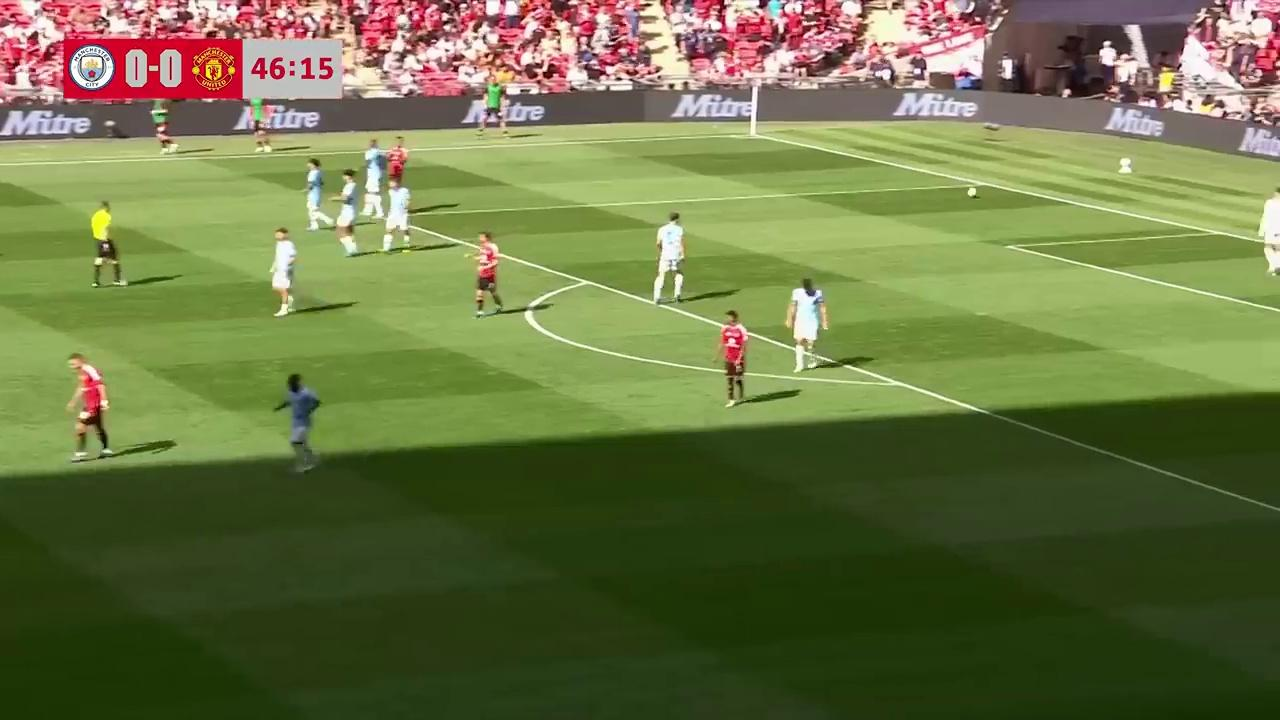player: (65, 355, 112, 463), (271, 372, 320, 474), (785, 278, 828, 371), (714, 309, 748, 408), (652, 211, 685, 306), (470, 232, 502, 317), (270, 226, 298, 317), (361, 139, 389, 225), (382, 178, 412, 253), (335, 173, 359, 255), (1258, 188, 1280, 276), (305, 159, 327, 231), (384, 139, 408, 191)
referee: (89, 199, 125, 288)
